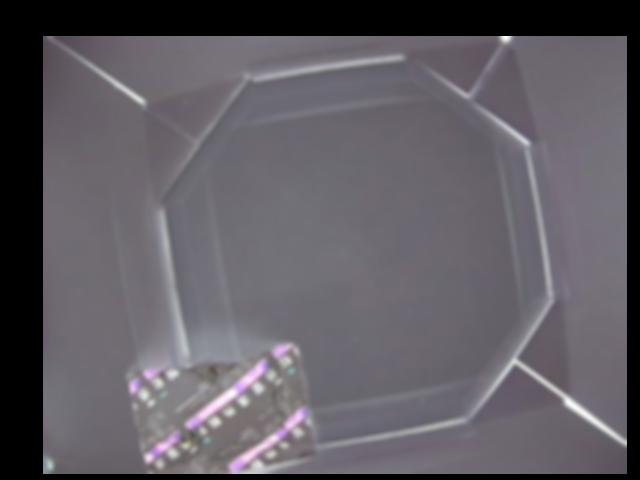Medicine: (126, 344, 316, 473)
